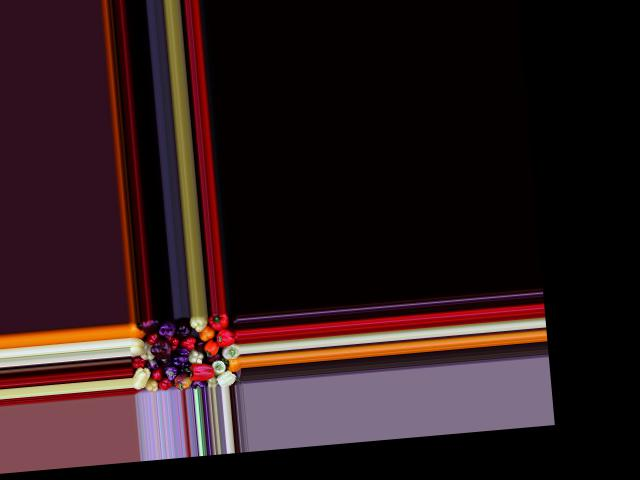bell_pepper: (219, 343, 239, 358)
